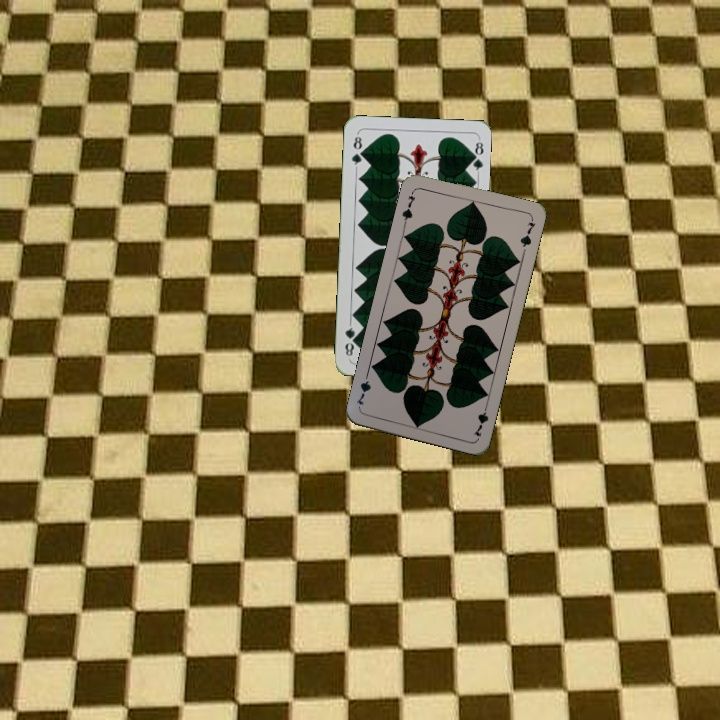G7: (469, 399, 491, 439), (398, 187, 419, 227)
G8: (347, 130, 365, 171)
